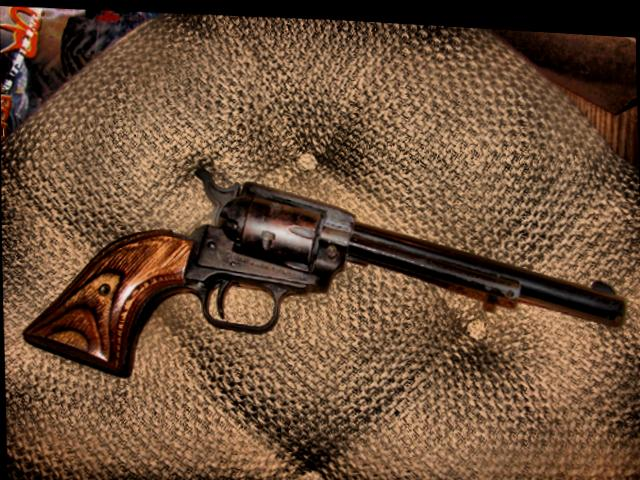pistol: (8, 146, 628, 401)
